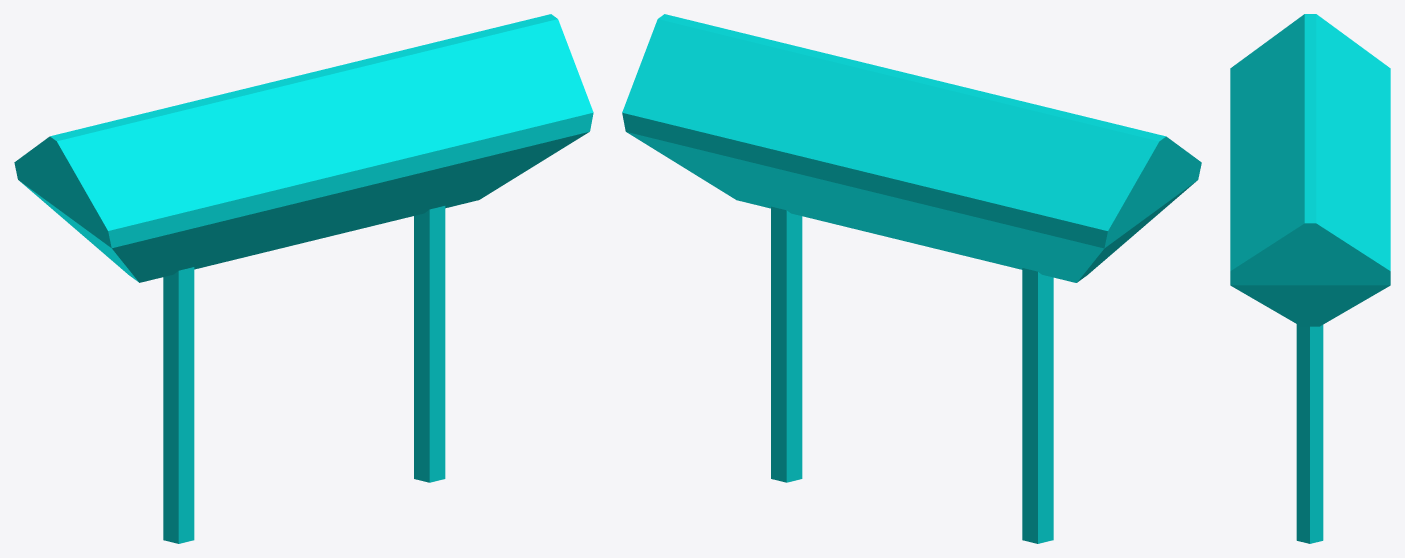
Rendered from SM_Prop_Torii_Gate_02_Collision.fbx.
The picture shows the model from 3 angles, left to right: view 1: azimuth 30°, elevation 25°; view 2: azimuth 150°, elevation 25°; view 3: azimuth 270°, elevation 25°; orthographic projection. The views are drawn at different scales.
Visible parts, largest first — view 1: SM_Prop_Torii_Gate_02_Collision; view 2: SM_Prop_Torii_Gate_02_Collision; view 3: SM_Prop_Torii_Gate_02_Collision.
Boxes of the visible parts, x1,y1,x2,y2 form: SM_Prop_Torii_Gate_02_Collision: (14,14,593,543); SM_Prop_Torii_Gate_02_Collision: (622,14,1201,543); SM_Prop_Torii_Gate_02_Collision: (1230,14,1390,543).
Bounding box in the file's own units: 606 × 494 × 196.
